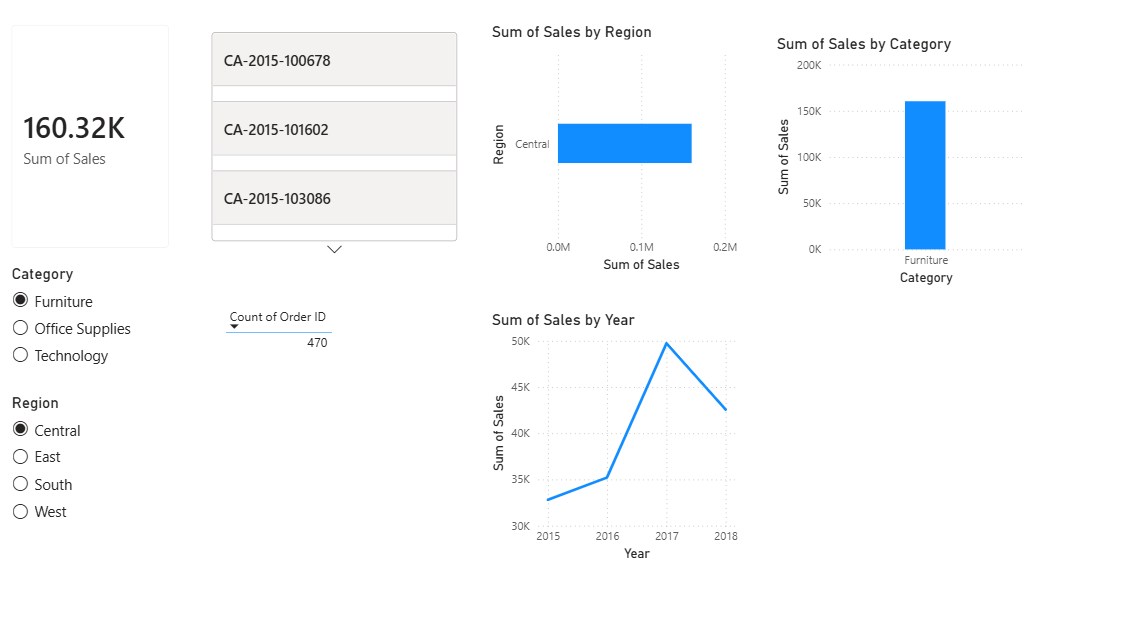

The page's visual inventory and layout, read from the dashboard file:
{"tool":"powerbi","page":{"name":"Page 1","canvas":[1280,720],"ordinal":0},"visuals":[{"type":"tableEx","fields":{"Values":["train data.Order ID"]},"box":[245.6,340.3,192.1,118],"z":1},{"type":"barChart","fields":{"Category":["train data.Region"],"Y":["Sum(train data.Sales)"]},"box":[539.3,32.9,279.9,279.9],"z":2},{"type":"lineChart","fields":{"Category":["train data.Order Date.Variation.Date Hierarchy.Year","train data.Order Date.Variation.Date Hierarchy.Quarter","train data.Order Date.Variation.Date Hierarchy.Month","train data.Order Date.Variation.Date Hierarchy.Day"],"Y":["Sum(train data.Sales)"]},"box":[539.3,349.9,279.9,279.9],"z":3},{"type":"listSlicer","fields":{"Values":["train data.Region"]},"box":[12.3,440.5,175.6,189.4],"z":4},{"type":"listSlicer","fields":{"Values":["train data.Category"]},"box":[12.3,299.1,194.9,131.7],"z":5},{"type":"cardVisual","fields":{"Data":["Sum(train data.Sales)"]},"box":[0,19.2,207.2,279.9],"z":6},{"type":"cardVisual","fields":{"Rows":["train data.Order ID"]},"box":[231.9,19.2,279.9,279.9],"z":7},{"type":"columnChart","fields":{"Category":["train data.Category"],"Y":["Sum(train data.Sales)"]},"box":[852.1,46.7,279.9,279.9],"z":9}]}

Visuals, with their boxes in screenshot pixels (x1, y1, x2, y2), scaled from the page's 1280x720 canvas onto the 1147x629 screenshot:
tableEx - train data.Order ID: bbox=(220, 297, 392, 400)
barChart - train data.Region x Sum(train data.Sales): bbox=(483, 29, 734, 273)
lineChart - train data.Order Date.Variation.Date Hierarchy.Year x train data.Order Date.Variation.Date Hierarchy.Quarter: bbox=(483, 306, 734, 550)
listSlicer - train data.Region: bbox=(11, 385, 168, 550)
listSlicer - train data.Category: bbox=(11, 261, 186, 376)
cardVisual - Sum(train data.Sales): bbox=(0, 17, 186, 261)
cardVisual - train data.Order ID: bbox=(208, 17, 459, 261)
columnChart - train data.Category x Sum(train data.Sales): bbox=(764, 41, 1014, 285)
